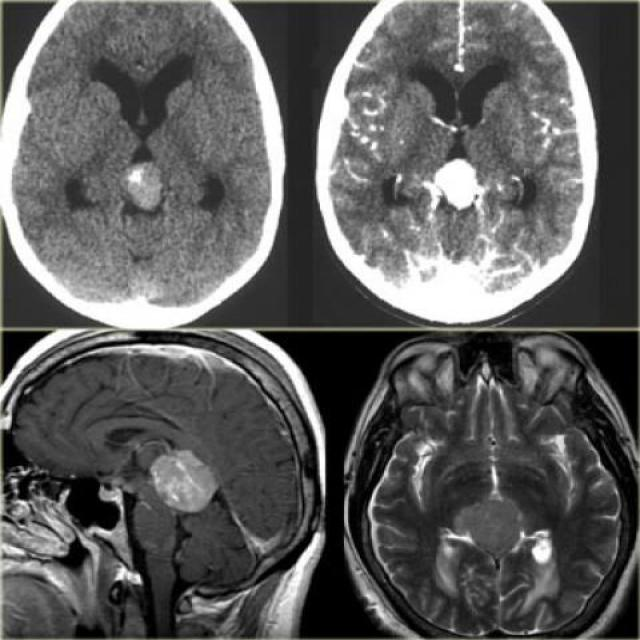Tumor: (432, 160, 480, 207), (128, 163, 167, 210)
